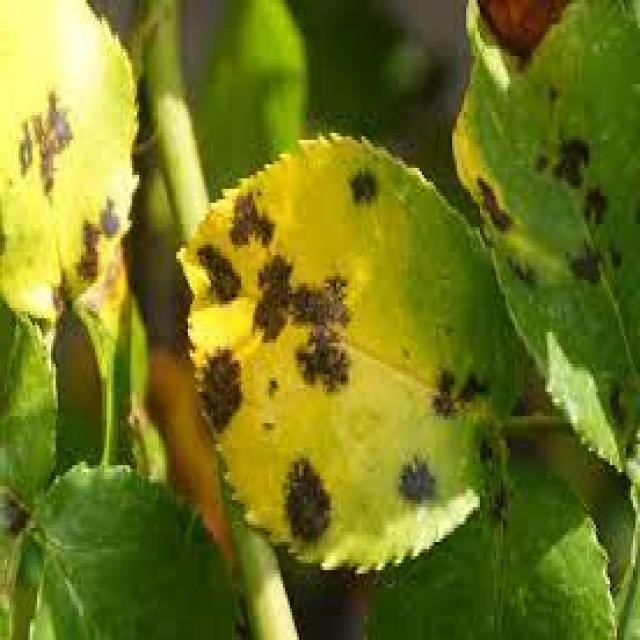black-spot: (134, 164, 378, 532)
